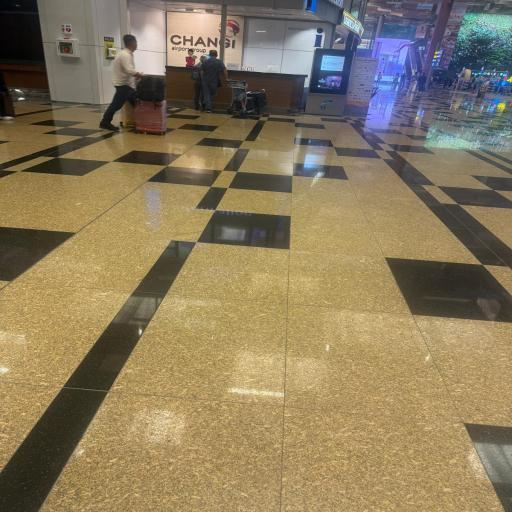person_with_luggage_right: (98, 34, 146, 131)
